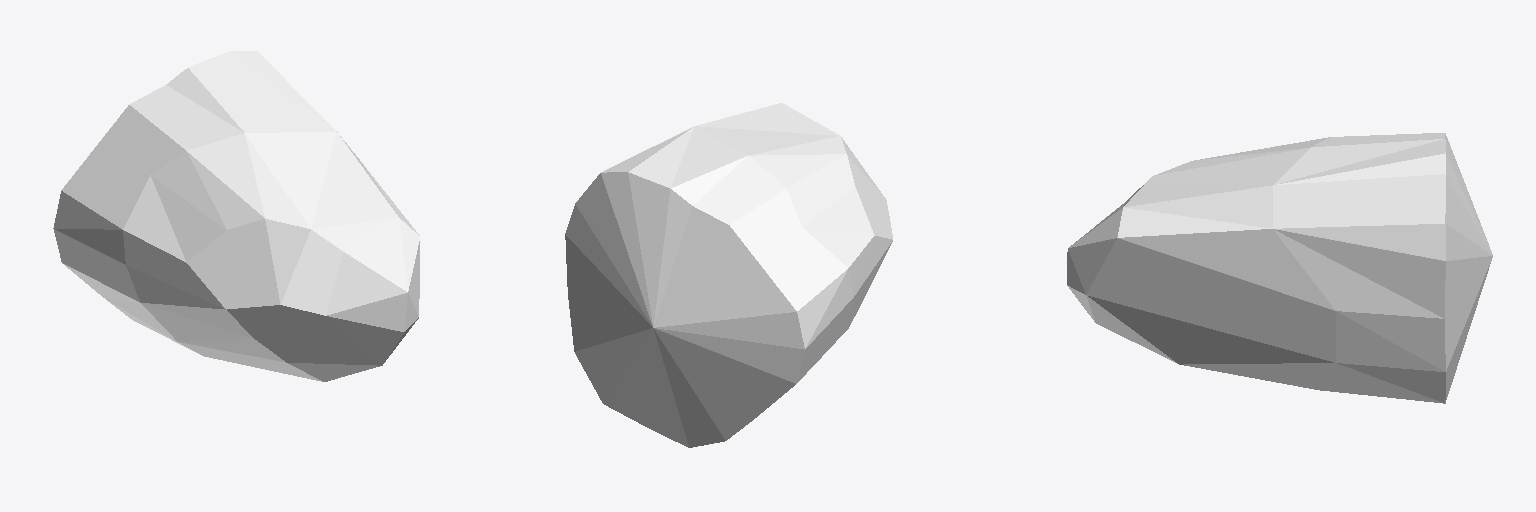
Rendered from rock7.obj.
3 views of the same model, side by side, from view 1: azimuth 30°, elevation 25°; view 2: azimuth 150°, elevation 25°; view 3: azimuth 270°, elevation 25° (orthographic).
Parts seen in each view (by area): view 1: 0_0; view 2: 0_0; view 3: 0_0.
Boxes of the visible parts, x1=… form: 0_0: x1=53, y1=51, x2=419, y2=381; 0_0: x1=565, y1=103, x2=892, y2=447; 0_0: x1=1067, y1=133, x2=1492, y2=403.
Bounding box in the file's own units: 2.19 × 2.28 × 3.38.